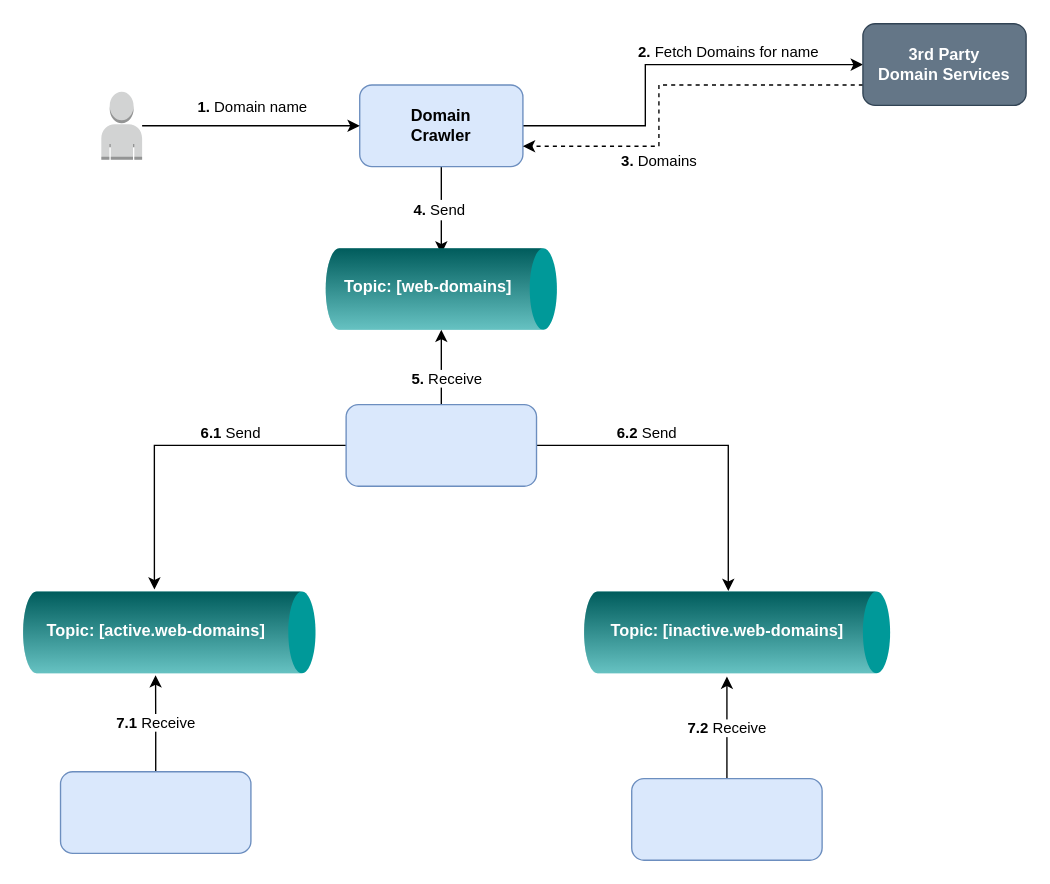
This 1050x884 diagram has some shape labels left out. The shapes that lost their labels are listed below. From the top down, each one's box as (x1, y1, x2, y2) in pixels, then its label:
(345, 403, 537, 486): Domain Processor
(59, 770, 251, 853): Domain Active Consumer
(630, 777, 822, 860): Domain Inactive Consumer
